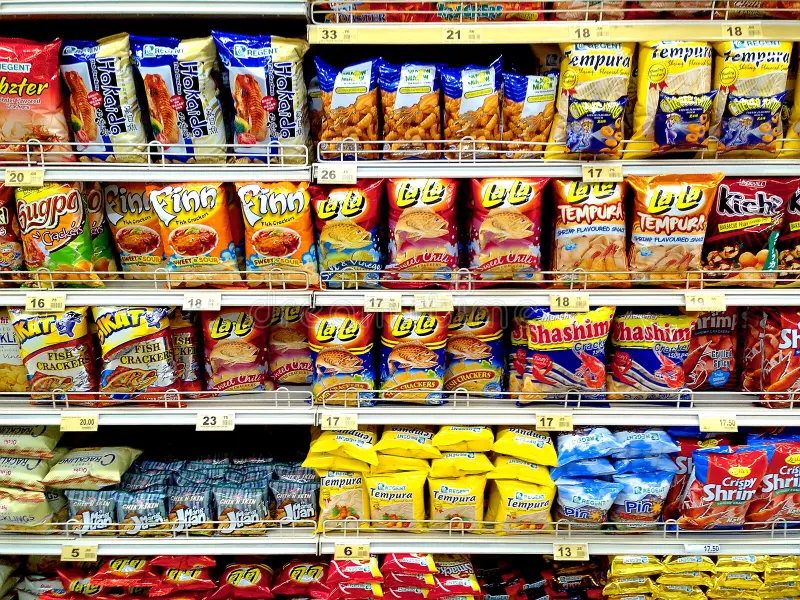snacks: (131, 24, 230, 166), (511, 307, 619, 408), (545, 45, 638, 162), (384, 175, 461, 291), (307, 305, 380, 404), (315, 62, 375, 157)
